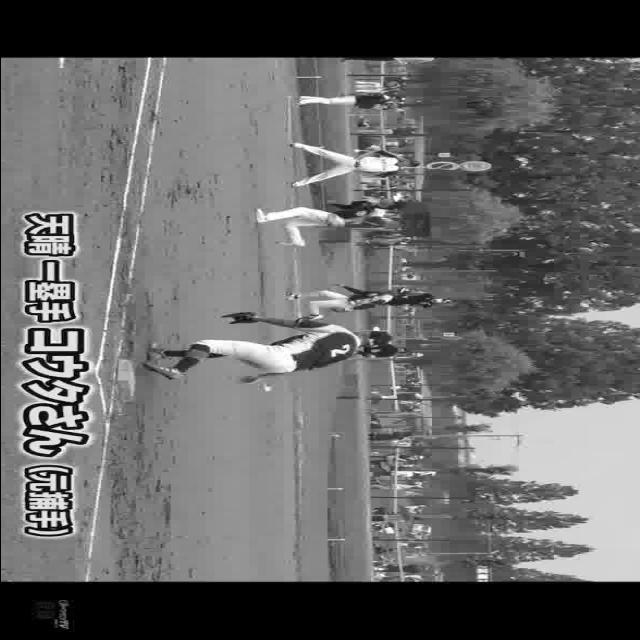base: (114, 356, 138, 401)
baseball_glove: (220, 310, 268, 326)
shoe: (140, 359, 186, 381), (268, 236, 312, 248), (147, 344, 169, 360), (251, 207, 270, 221)
